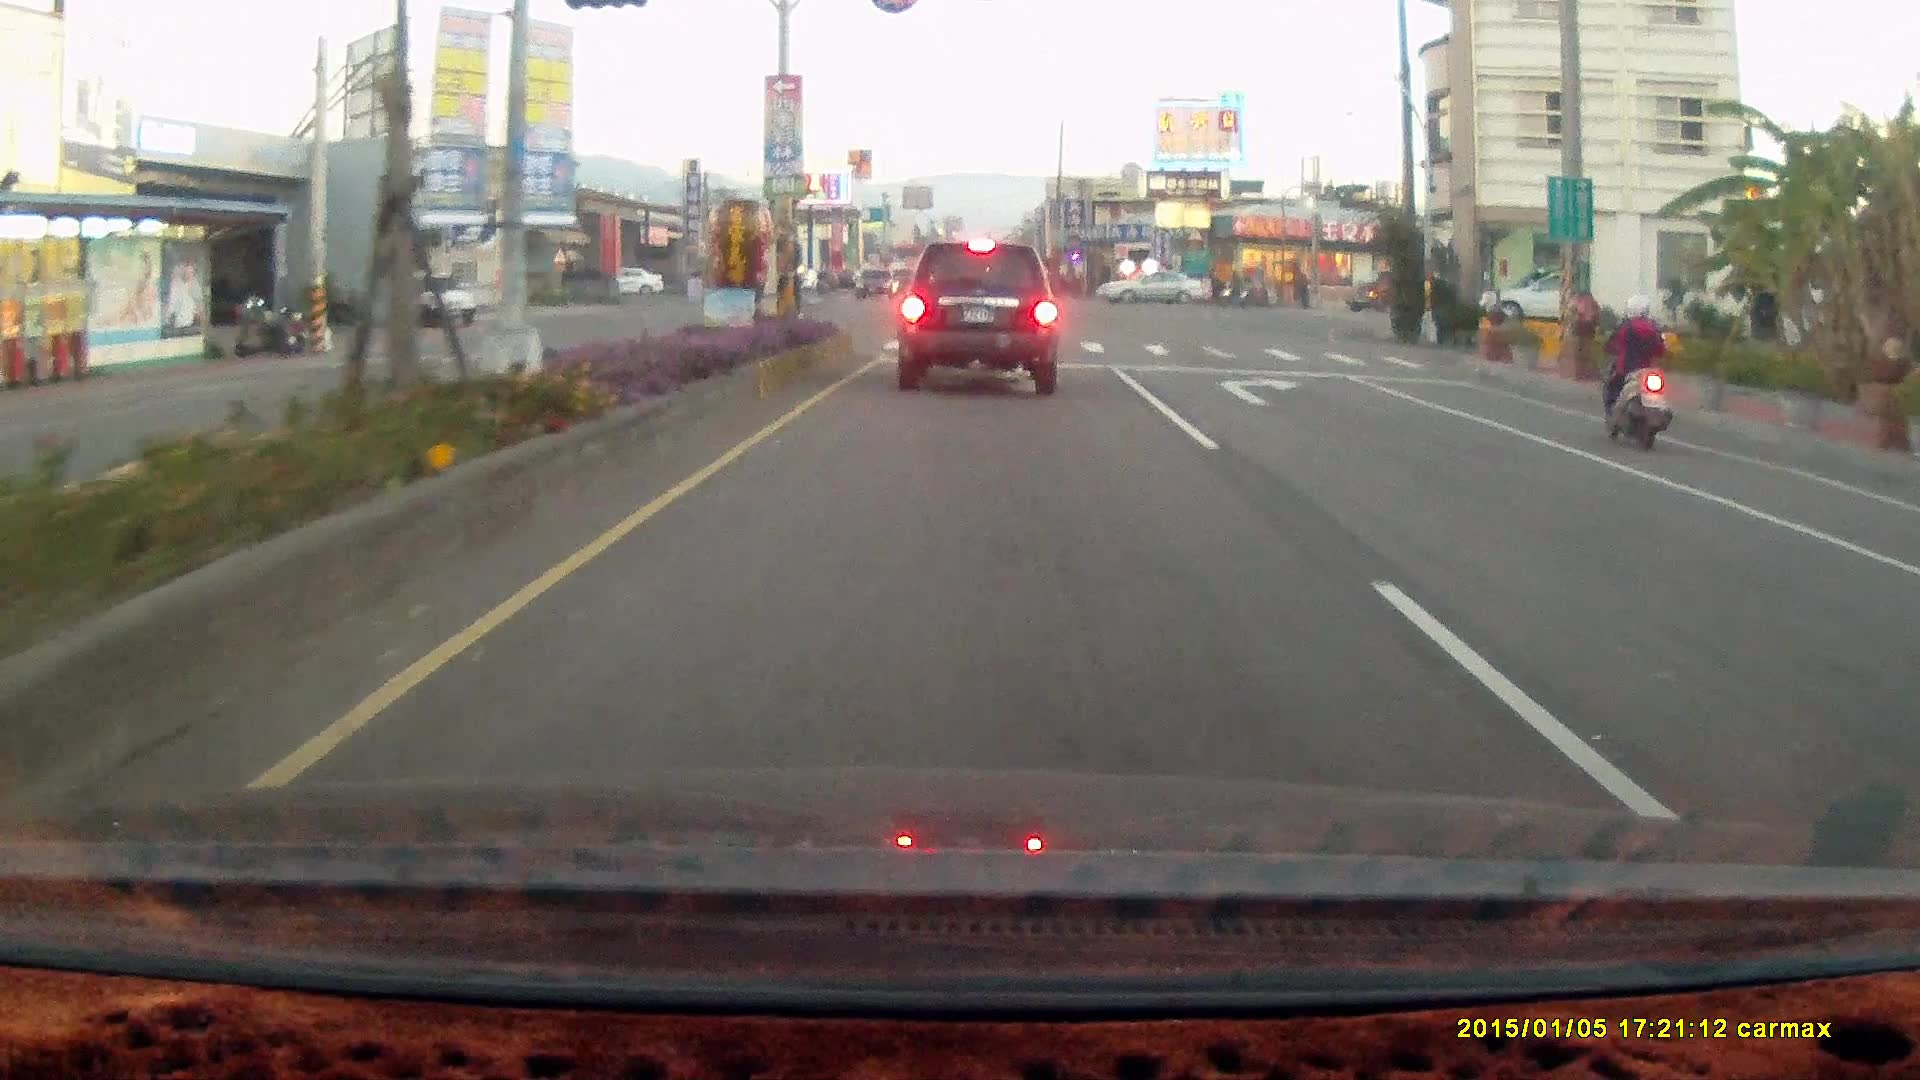rider: (1595, 299, 1675, 459), (1215, 268, 1253, 309)
vehicle: (896, 240, 1062, 393), (1478, 266, 1618, 330), (1896, 493, 1920, 836), (1482, 270, 1593, 335), (1883, 528, 1920, 690), (401, 272, 480, 330), (1094, 266, 1207, 305), (1342, 267, 1432, 312), (1098, 270, 1207, 309)
